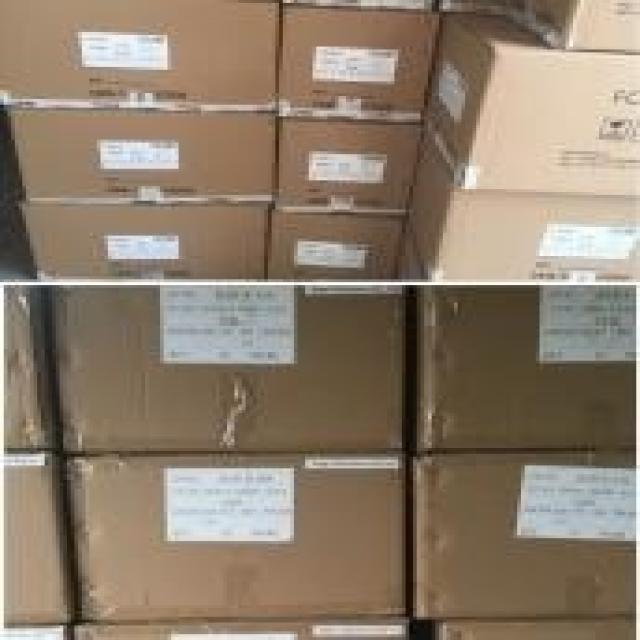box: (45, 288, 406, 454), (60, 451, 406, 623), (420, 12, 640, 195), (409, 451, 636, 620), (417, 288, 636, 454), (409, 131, 640, 282), (0, 0, 279, 111), (4, 108, 275, 204), (279, 3, 443, 122), (22, 204, 272, 279), (275, 119, 420, 212), (4, 451, 74, 625), (268, 212, 406, 279), (4, 285, 56, 451), (495, 0, 640, 52), (71, 620, 409, 640), (428, 617, 636, 640), (391, 224, 424, 282), (0, 625, 67, 640)
